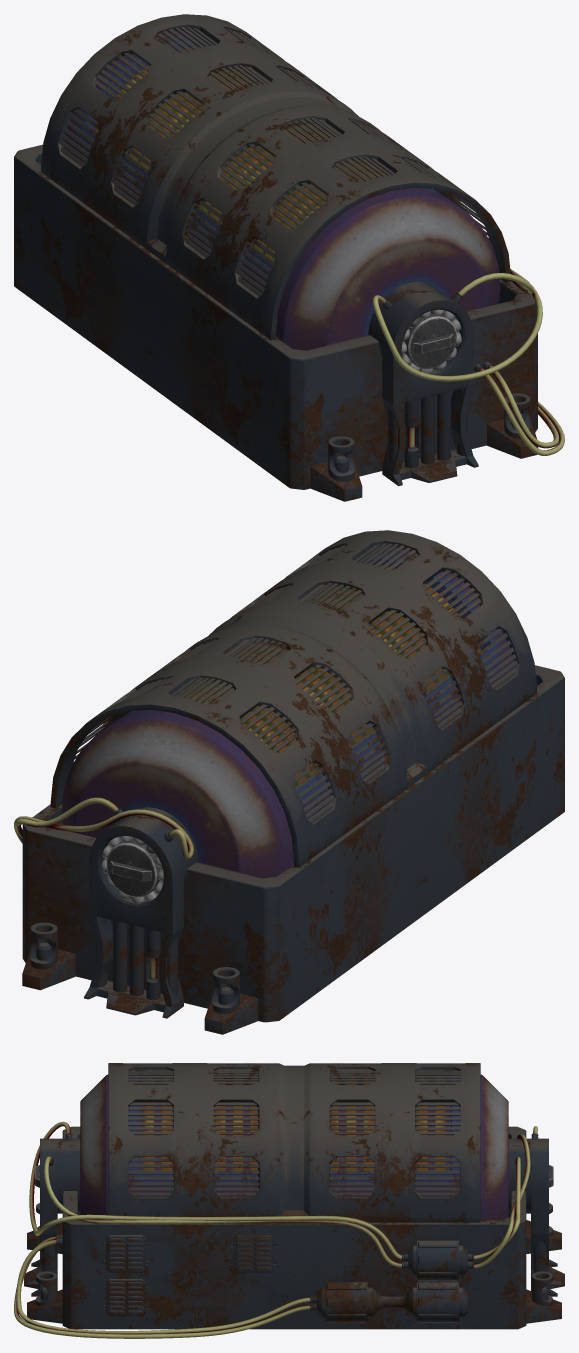
The model's file is Generator3.glb.
3 views of the same model, one above another, from view 1: azimuth 30°, elevation 25°; view 2: azimuth 150°, elevation 25°; view 3: azimuth 270°, elevation 25° (orthographic). The views are drawn at different scales.
Visible parts, largest first — view 1: Cube, Cube.004, Cube.001, Cylinder.001; view 2: Cube, Cube.004, Cube.001, Cylinder.001; view 3: Cube.004, Cube, Cylinder.001, Cube.001, Cube.005.
Boxes of the visible parts, box(x1,y1,x2,y2) form: Cube: box(14, 144, 538, 501); Cube.004: box(41, 14, 510, 340); Cube.001: box(63, 29, 500, 373); Cylinder.001: box(372, 269, 564, 455); Cube: box(22, 665, 564, 1034); Cube.004: box(50, 530, 536, 867); Cube.001: box(61, 546, 513, 902); Cylinder.001: box(14, 797, 193, 859); Cube.004: box(108, 1063, 480, 1222); Cube: box(24, 1126, 564, 1329); Cylinder.001: box(14, 1121, 538, 1338); Cube.001: box(35, 1074, 553, 1219); Cube.005: box(102, 1235, 276, 1316).
Size of the model in its own units: 0.9278 by 0.8294 by 2.
Materials: 3 (3 with a texture image).
